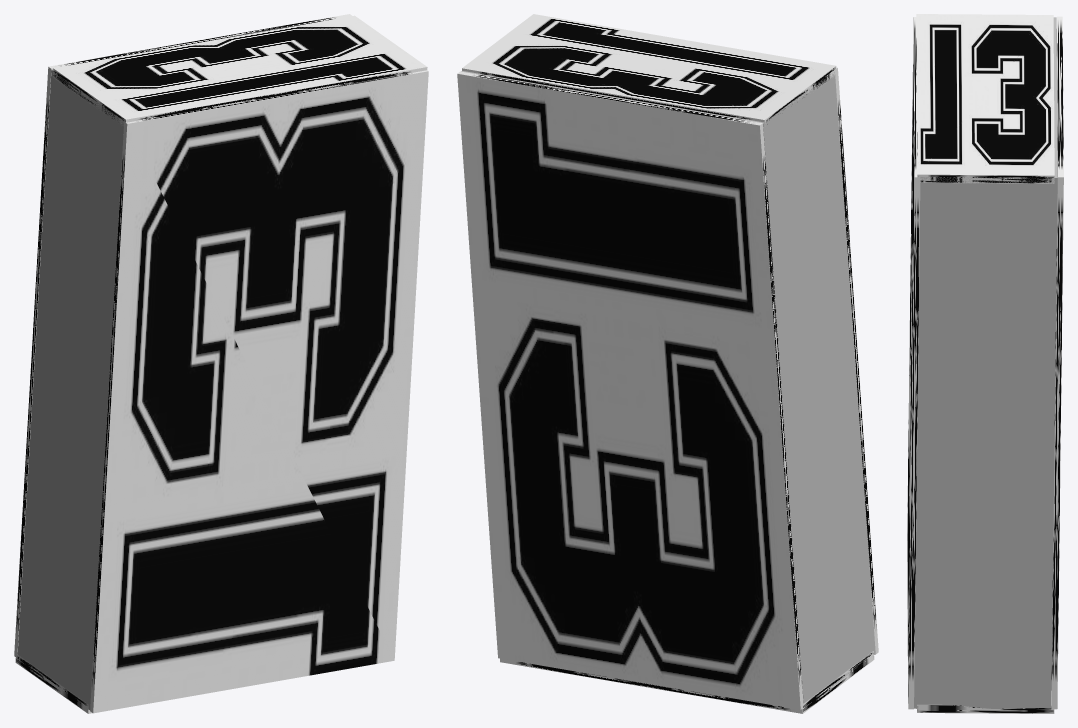
The model's file is 13dosya.fbx.
3 views of the same model, side by side, from view 1: azimuth 30°, elevation 25°; view 2: azimuth 150°, elevation 25°; view 3: azimuth 270°, elevation 25° (orthographic). The views are drawn at different scales.
Parts seen in each view (by area): view 1: Object_3; view 2: Object_3; view 3: Object_3.
Boxes of the visible parts, x1,y1,x2,y2 form: Object_3: (14,14,428,713); Object_3: (457,14,878,713); Object_3: (907,14,1063,713).
Size of the model in its own units: 16 by 27.28 by 6.71.
